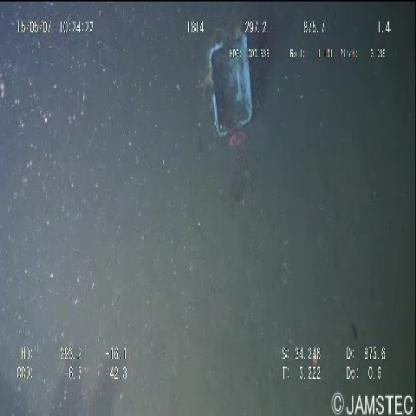Rác: (198, 20, 258, 144)
